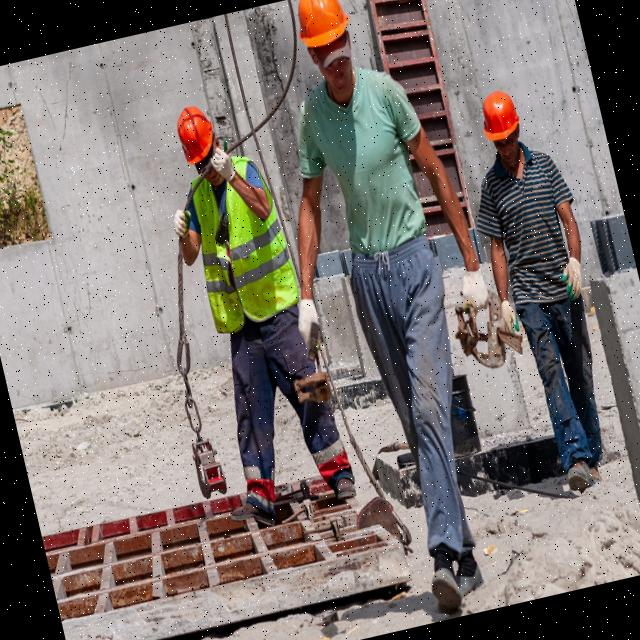Helmet: (289, 1, 355, 55), (172, 104, 223, 168), (476, 86, 526, 146)
Jacket: (180, 153, 293, 338)
NoJacket: (310, 57, 430, 266), (482, 139, 583, 306)
